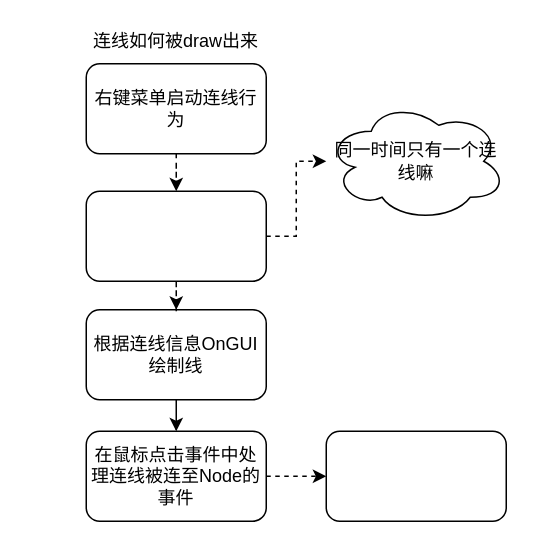
Image size: 533x548. Some labels were removed from this diagram. The shapes that lost their labels are listed below. From the top down, each one's centre as x and y in pixels, then its label:
At point 175,235: "连线信息被缓存到LG".
At point 415,475: "check连线合理->记录连线到NodeInfo->清空连线信息缓存".
